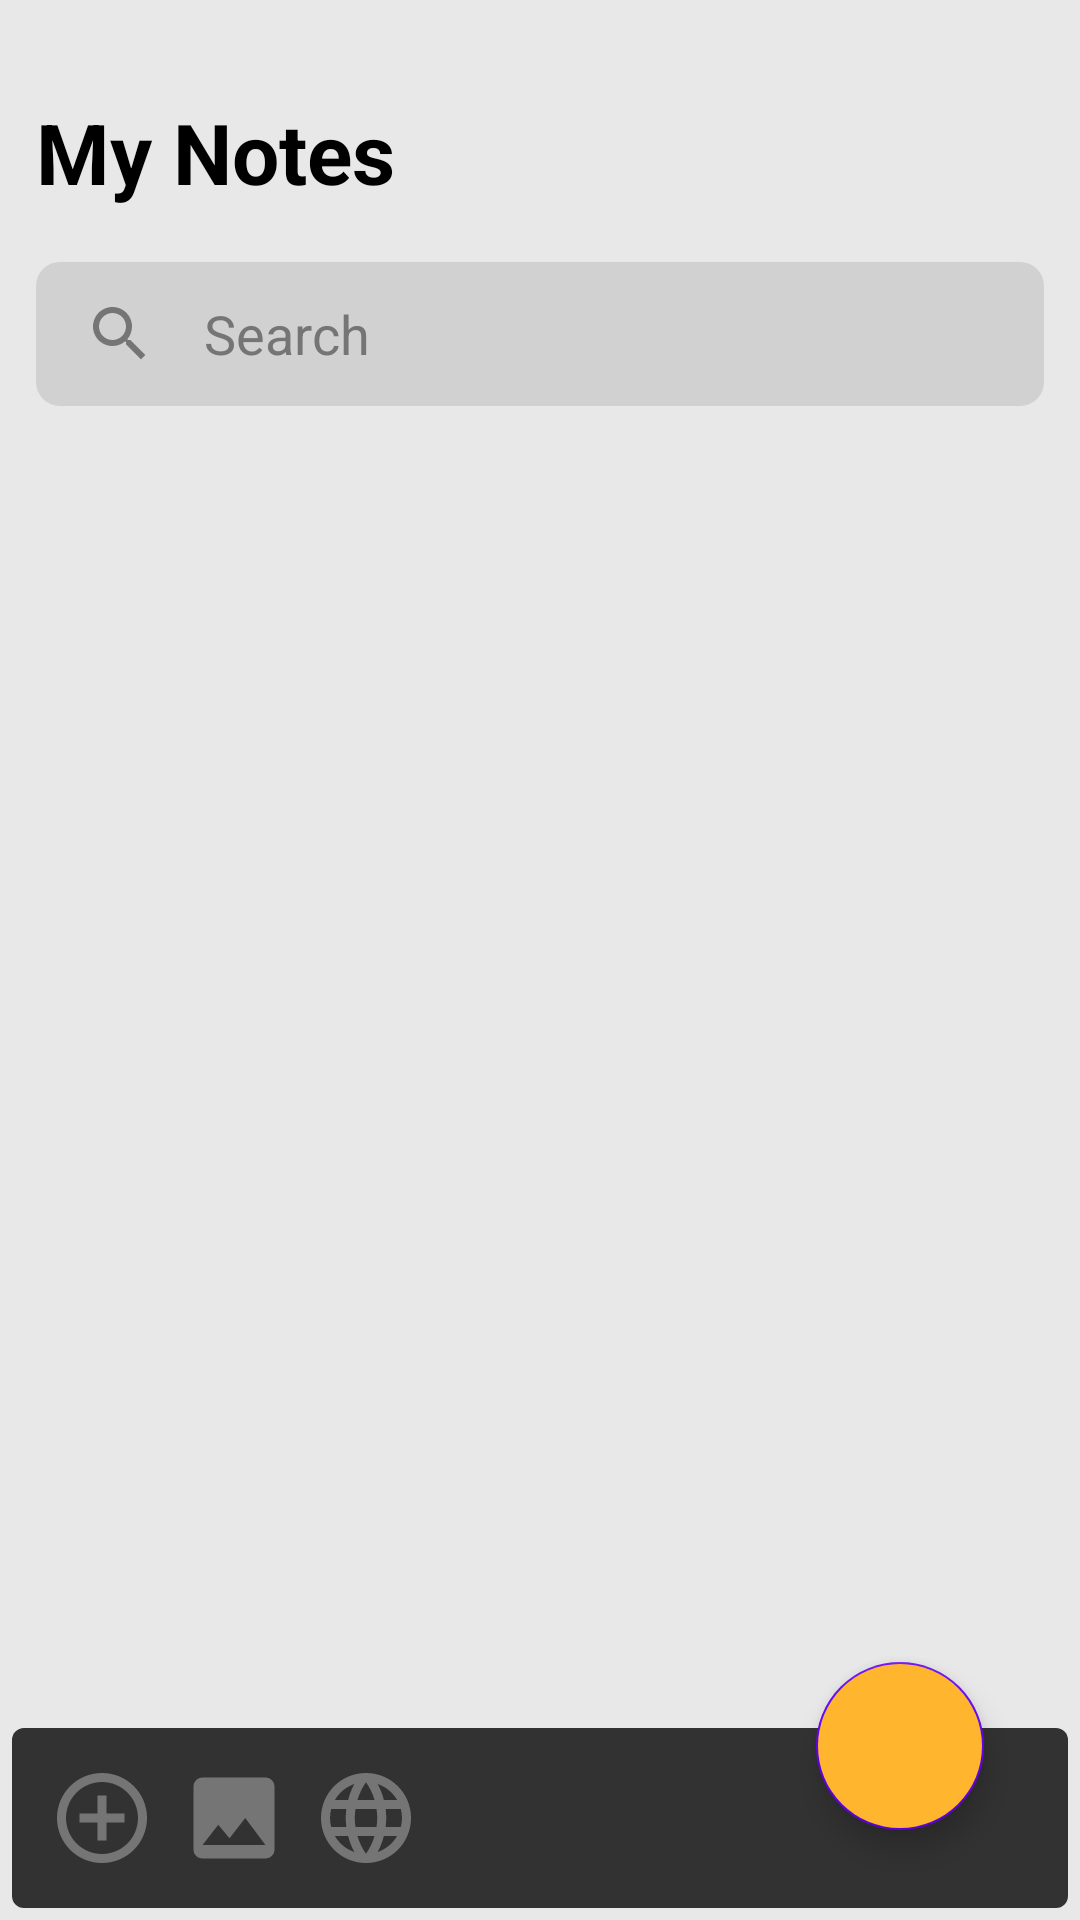

Named icons in this screenshot (1080*1920) and their bounding boxes, (x1, y1, x2, y2):
add: (57, 1773, 147, 1863)
language: (321, 1773, 411, 1863)
